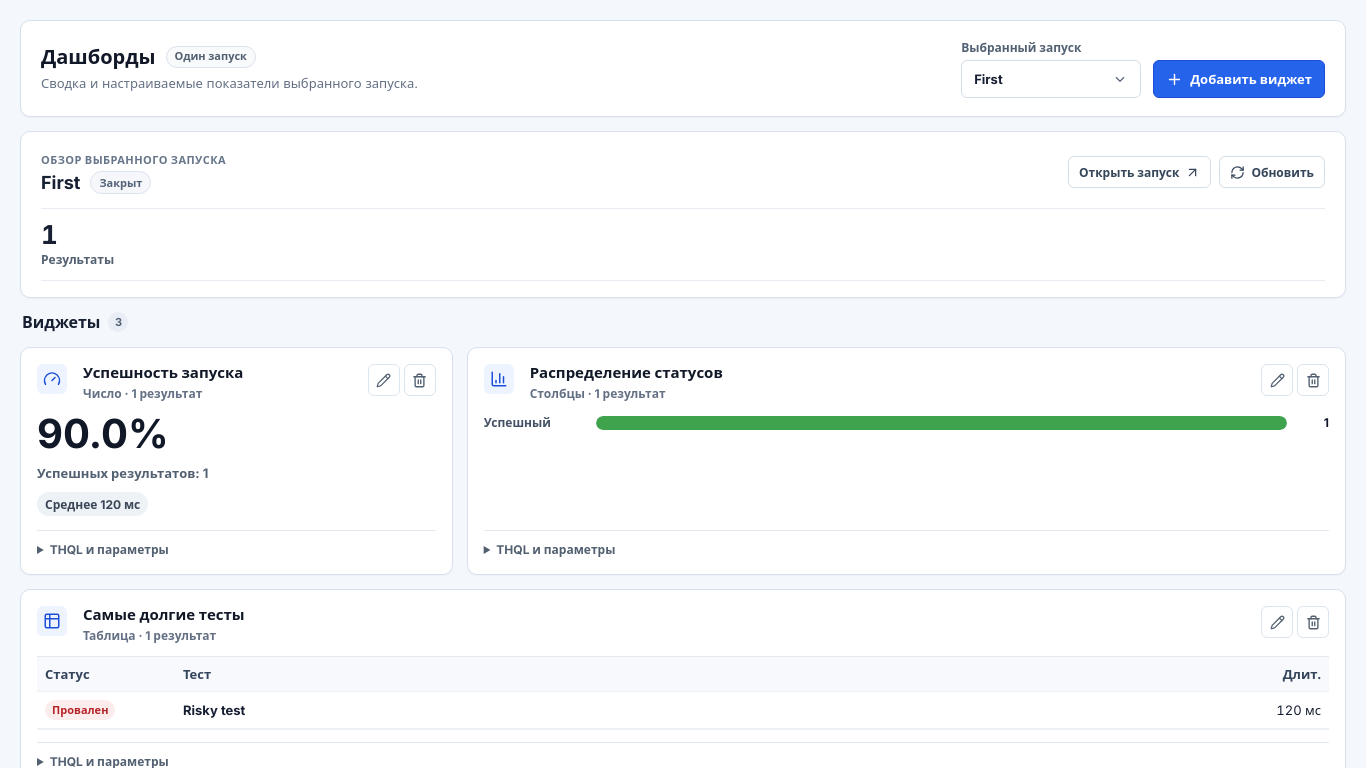
Scenario: dashboard aggregate states › changes the selected launch and requests its own aggregate
The image size is (1366, 768).
Expected: the heading "First" is shown, 41,171 -> 80,194
Select "Second" in the dropdown labelled "Выбранный запуск". click: (1051, 79)
box: 961,60 -> 1141,98
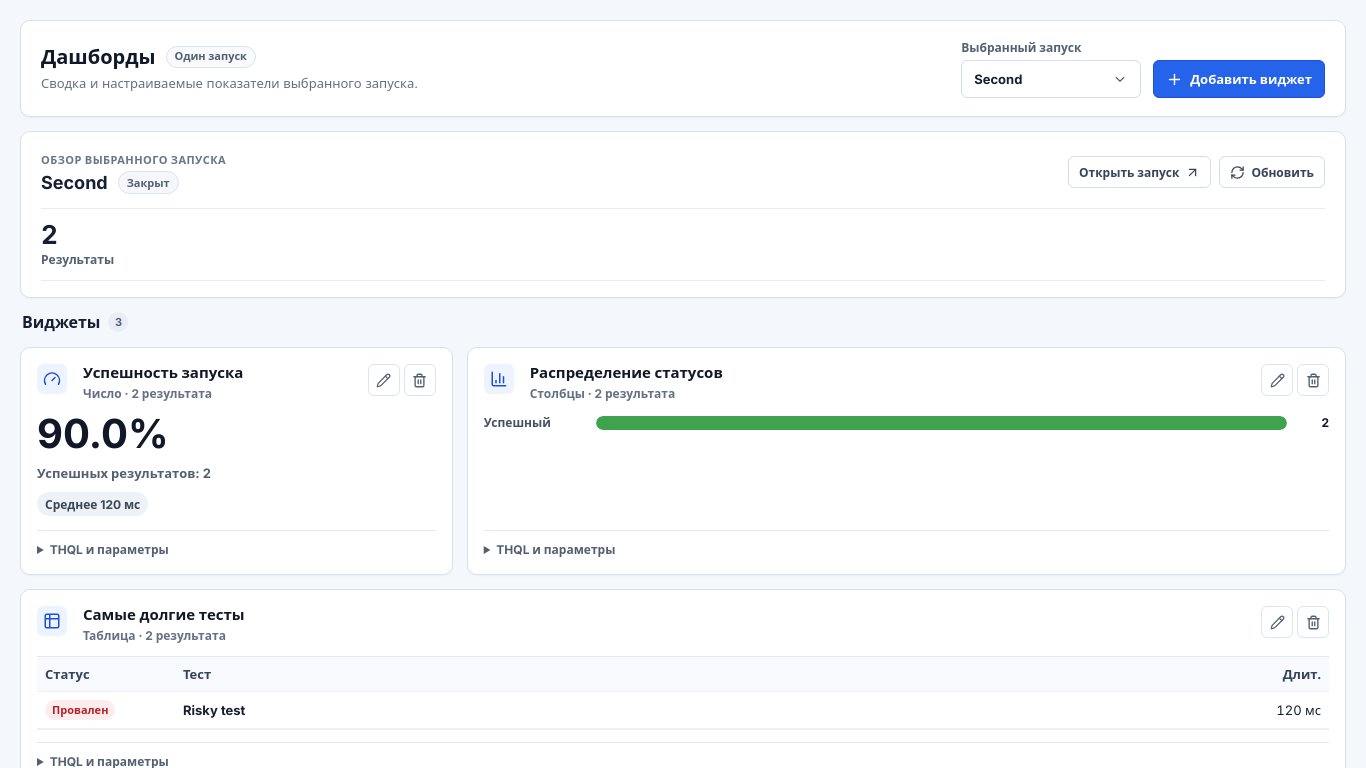
Expected: the text "Second" is shown, 41,172 -> 108,193
Expected: the heading "Second" is shown, 41,171 -> 108,194
